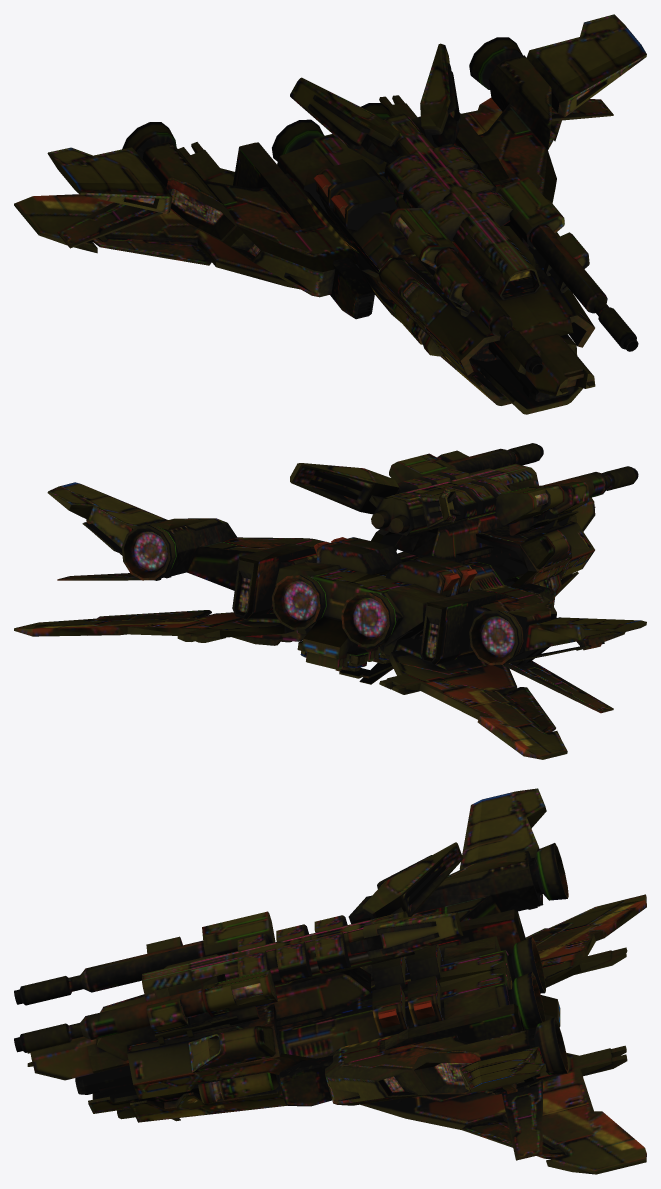
File: pitbull01.fbx
The picture shows the model from 3 angles, top to bottom: view 1: azimuth 30°, elevation 25°; view 2: azimuth 150°, elevation 25°; view 3: azimuth 270°, elevation 25°; orthographic projection. The views are drawn at different scales.
Parts seen in each view (by area): view 1: SF_Fighter-RK2; view 2: SF_Fighter-RK2; view 3: SF_Fighter-RK2.
Boxes of the visible parts, bbox=[...] form: SF_Fighter-RK2: bbox=[14, 14, 646, 414]; SF_Fighter-RK2: bbox=[14, 443, 646, 759]; SF_Fighter-RK2: bbox=[14, 788, 646, 1174].
Size of the model in its own units: 346 by 136 by 325.
